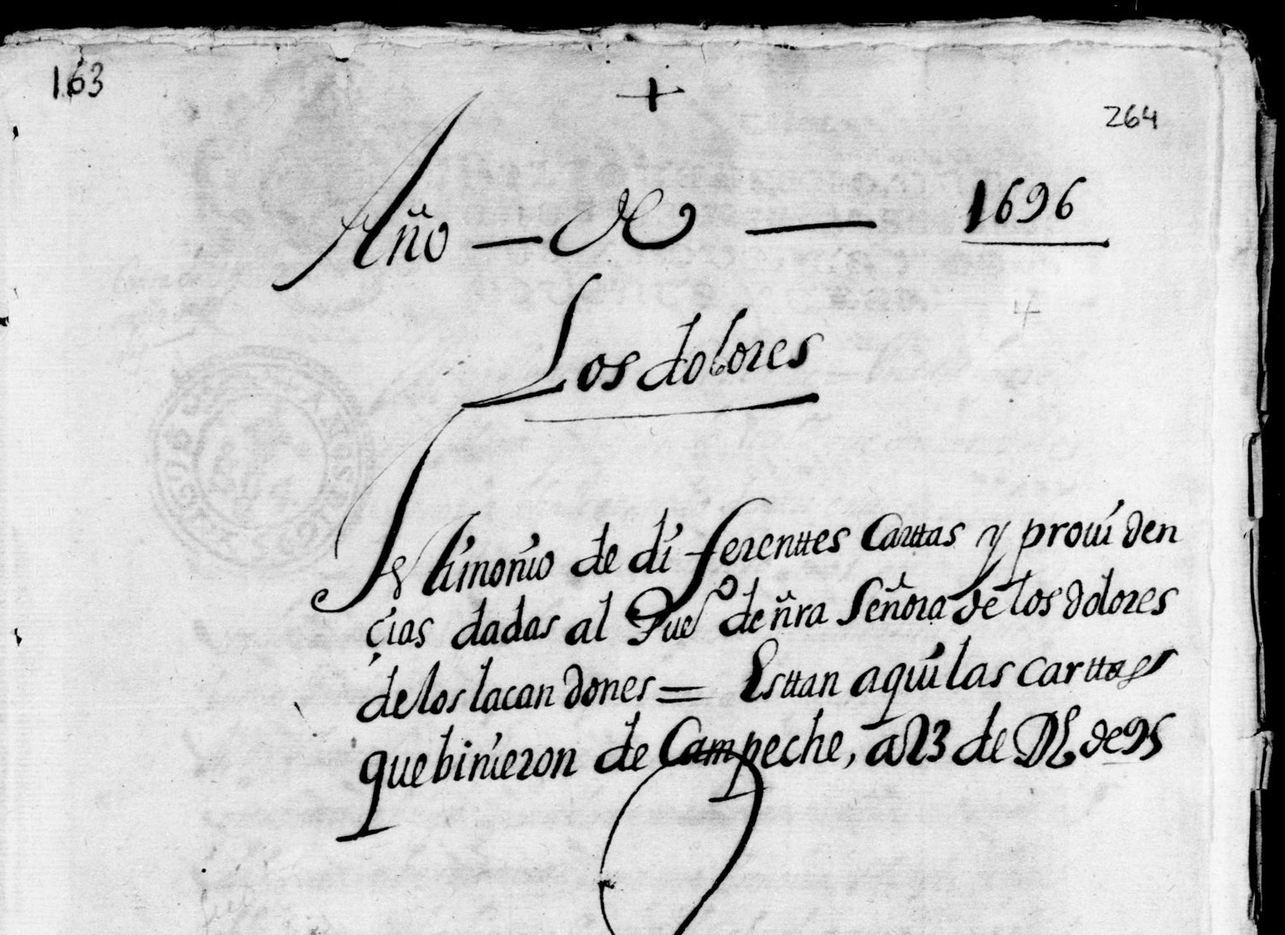lacandon: (469, 656, 656, 714)
